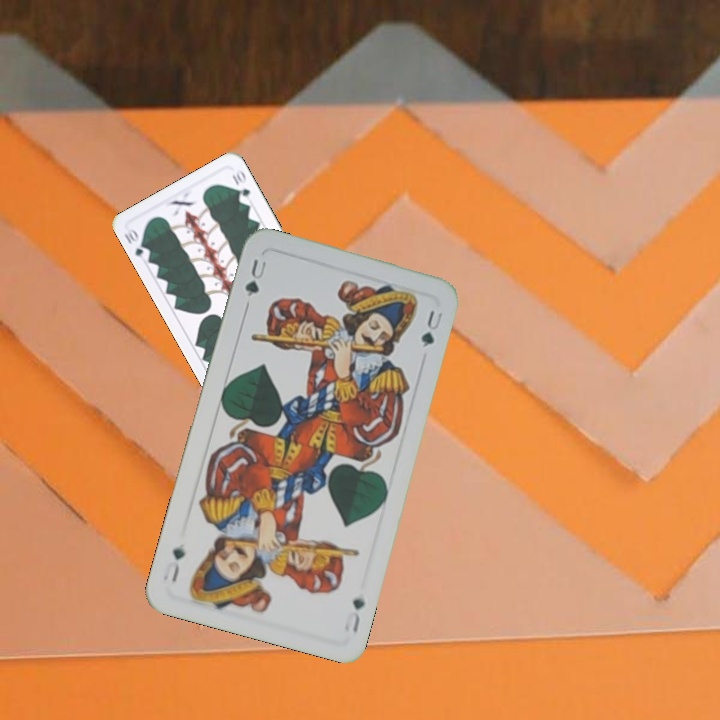G10: (120, 223, 153, 263)
GU: (240, 255, 270, 299), (345, 593, 367, 636)
